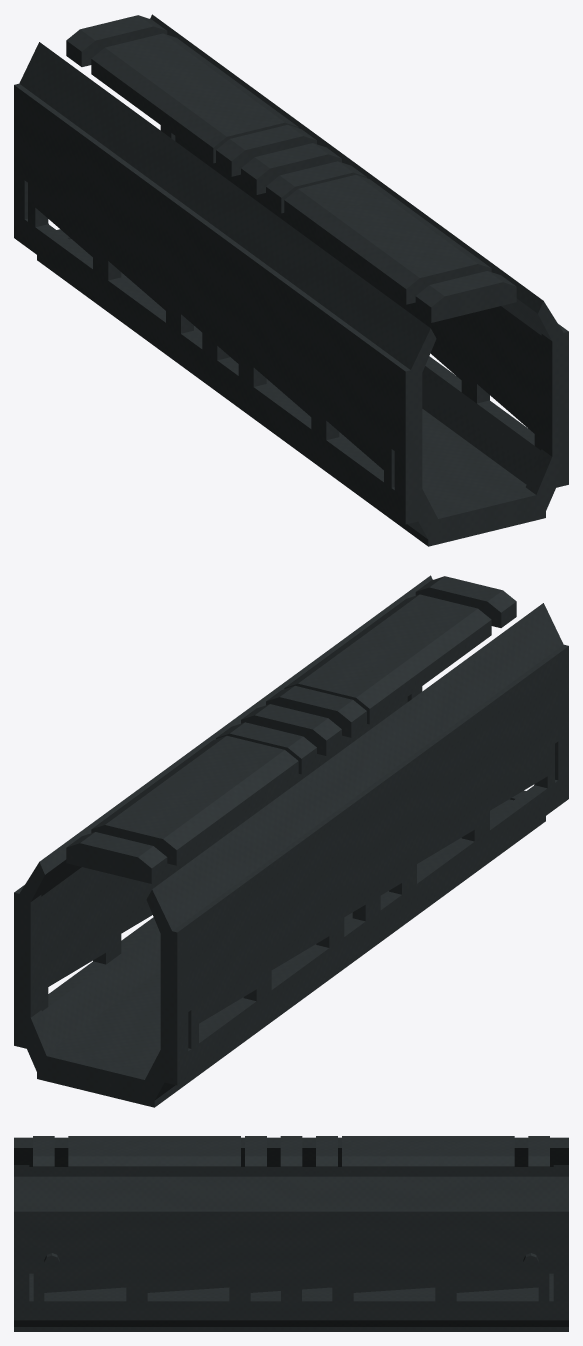
The model's file is bren_guard_long.glb.
3 views of the same model, one above another, from view 1: azimuth 30°, elevation 25°; view 2: azimuth 150°, elevation 25°; view 3: azimuth 270°, elevation 25° (orthographic). The views are drawn at different scales.
Parts seen in each view (by area): view 1: handguard__bren_guard_long_LOD0_RAID_Secondary_Original_stee, handguard__bren_guard_long_LOD1_RAID_Secondary_Original_stee; view 2: handguard__bren_guard_long_LOD0_RAID_Secondary_Original_stee, handguard__bren_guard_long_LOD1_RAID_Secondary_Original_stee; view 3: handguard__bren_guard_long_LOD0_RAID_Secondary_Original_stee, handguard__bren_guard_long_LOD1_RAID_Secondary_Original_stee.
Part boxes in pixels (x1,y1,x2,y2): handguard__bren_guard_long_LOD0_RAID_Secondary_Original_stee: (14,14,568,546); handguard__bren_guard_long_LOD1_RAID_Secondary_Original_stee: (28,38,541,511); handguard__bren_guard_long_LOD0_RAID_Secondary_Original_stee: (14,575,568,1107); handguard__bren_guard_long_LOD1_RAID_Secondary_Original_stee: (41,599,554,1073); handguard__bren_guard_long_LOD0_RAID_Secondary_Original_stee: (14,1136,568,1331); handguard__bren_guard_long_LOD1_RAID_Secondary_Original_stee: (33,1136,549,1320).
Bounding box in the file's own units: 0.092 × 0.12 × 0.365.
Materials: 1 (1 with a texture image).
